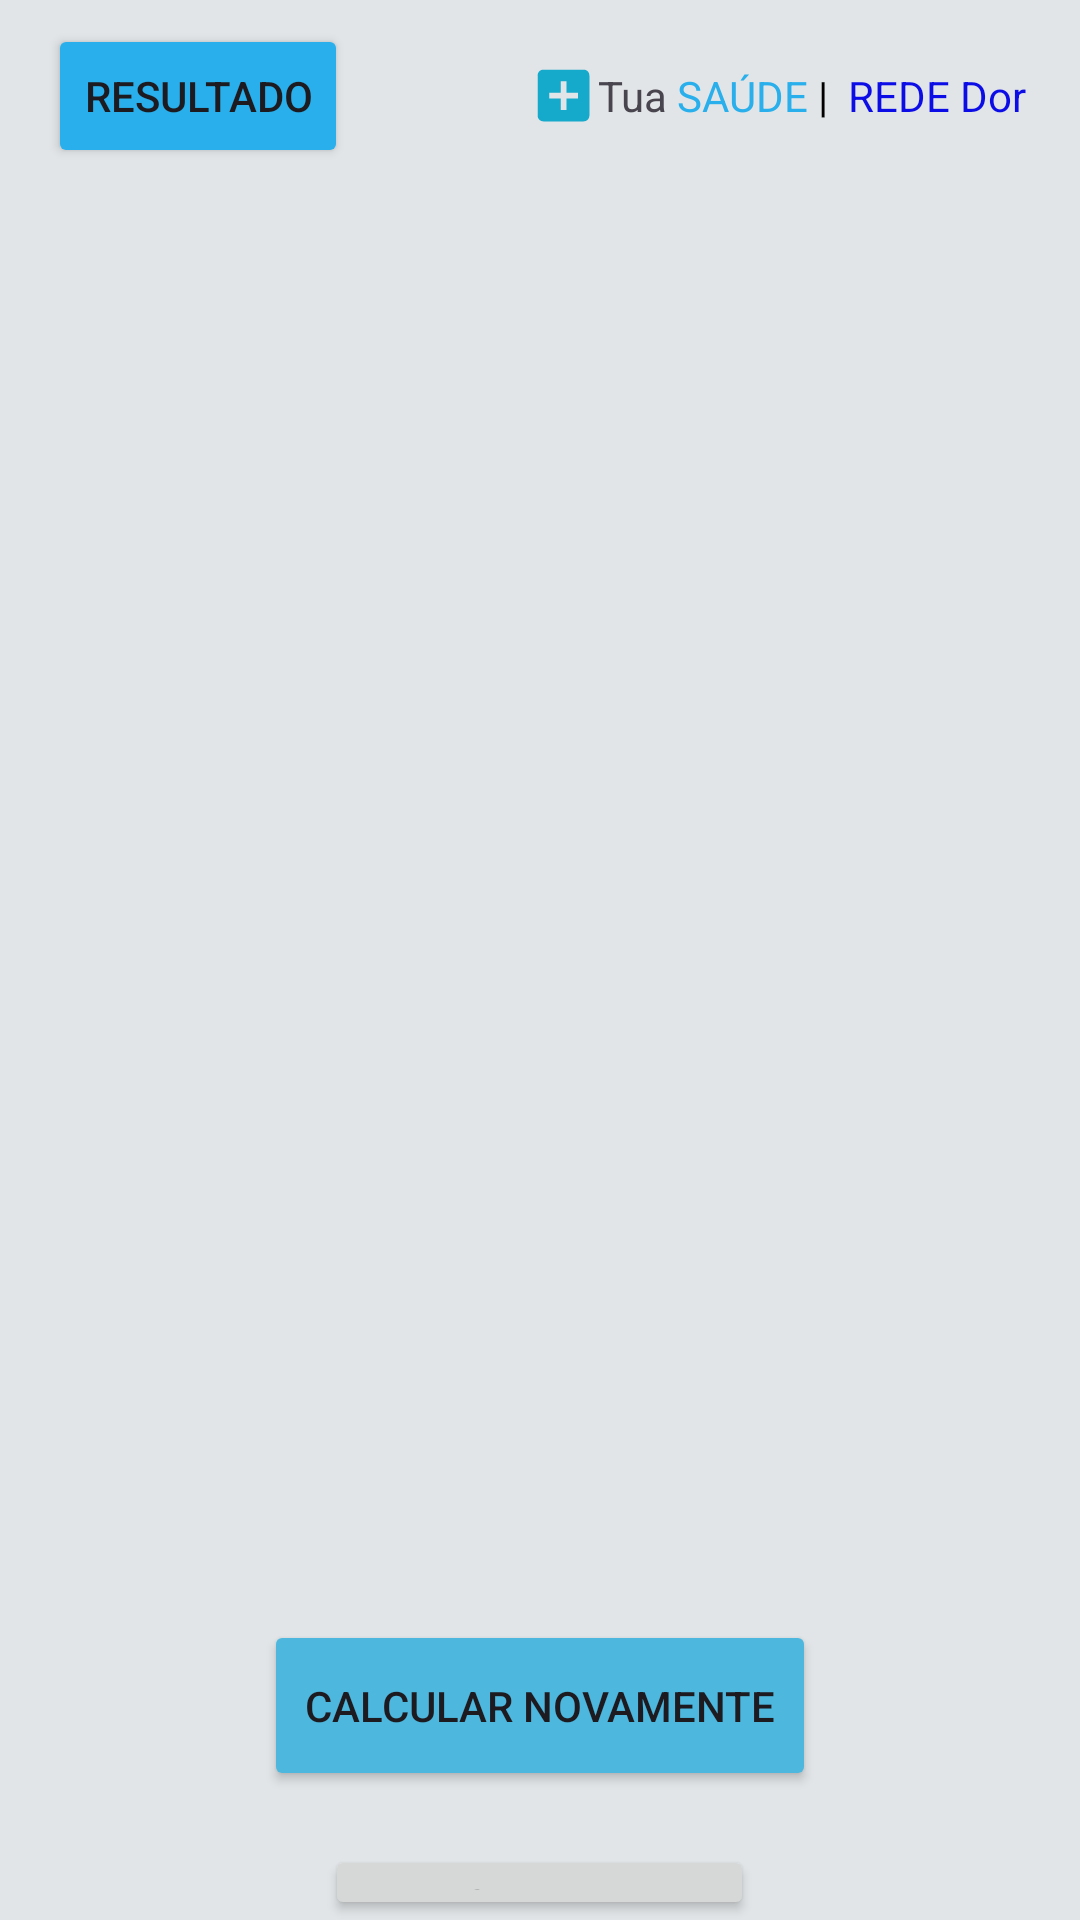

Icons on this 1080×1920 Android screen, each with the point to tap as point (x, y):
add box: point (563, 95)
